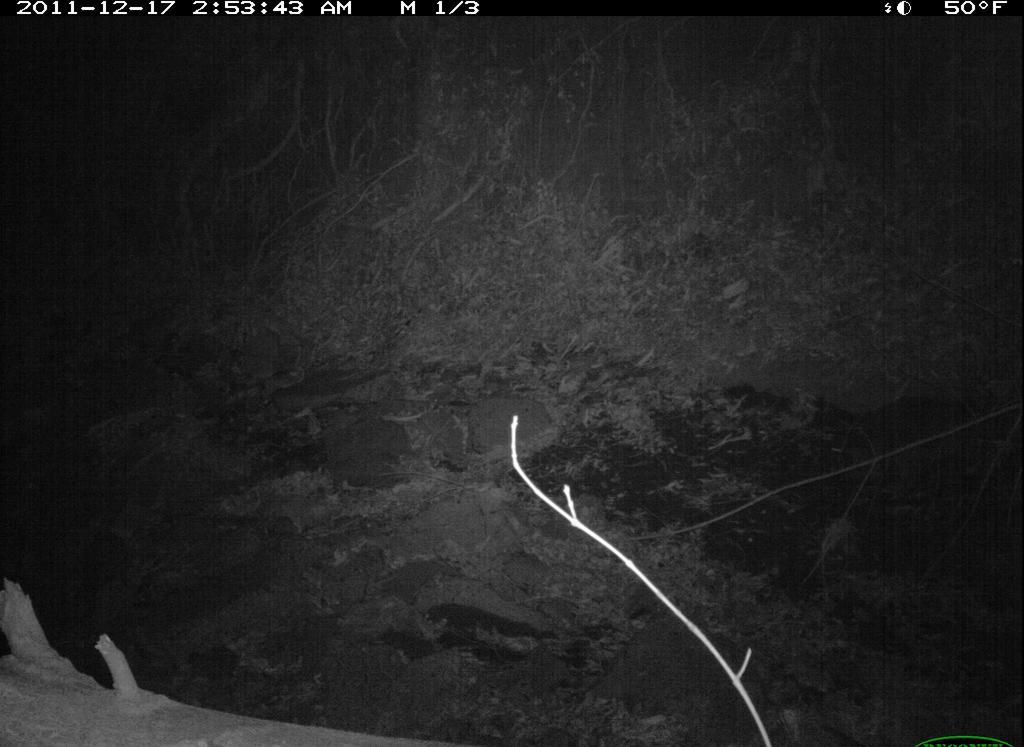raccoon: (819, 383, 1001, 496)
